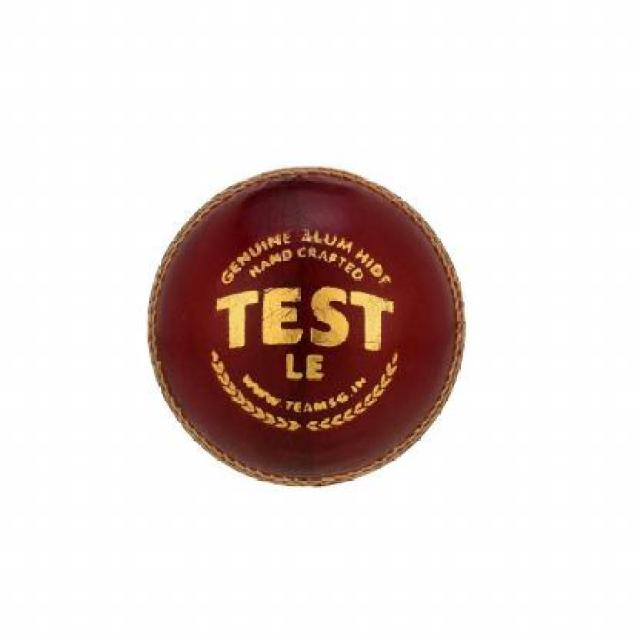ball: (106, 125, 502, 518)
